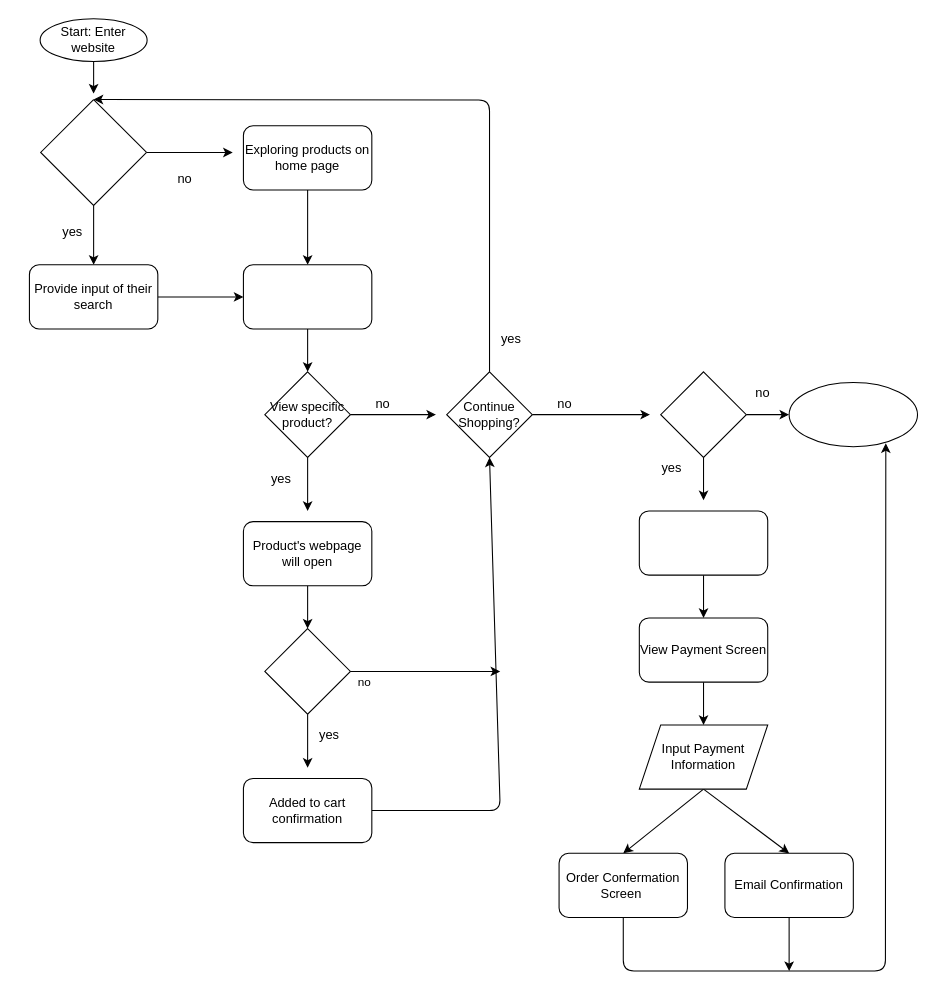
The diagram is 936 pixels wide and 998 high, and some of its shapes have lost their labels. The shapes that lost their labels are listed below. From the top down, each one's centre as x and y in pixels, then its label:
At point 93,152: "Searching for Product?".
At point 307,296: "Look over products".
At point 703,414: "Checkout?".
At point 853,414: "leave website".
At point 703,542: "View Cart Screen".
At point 307,671: "Add to Cart?".
